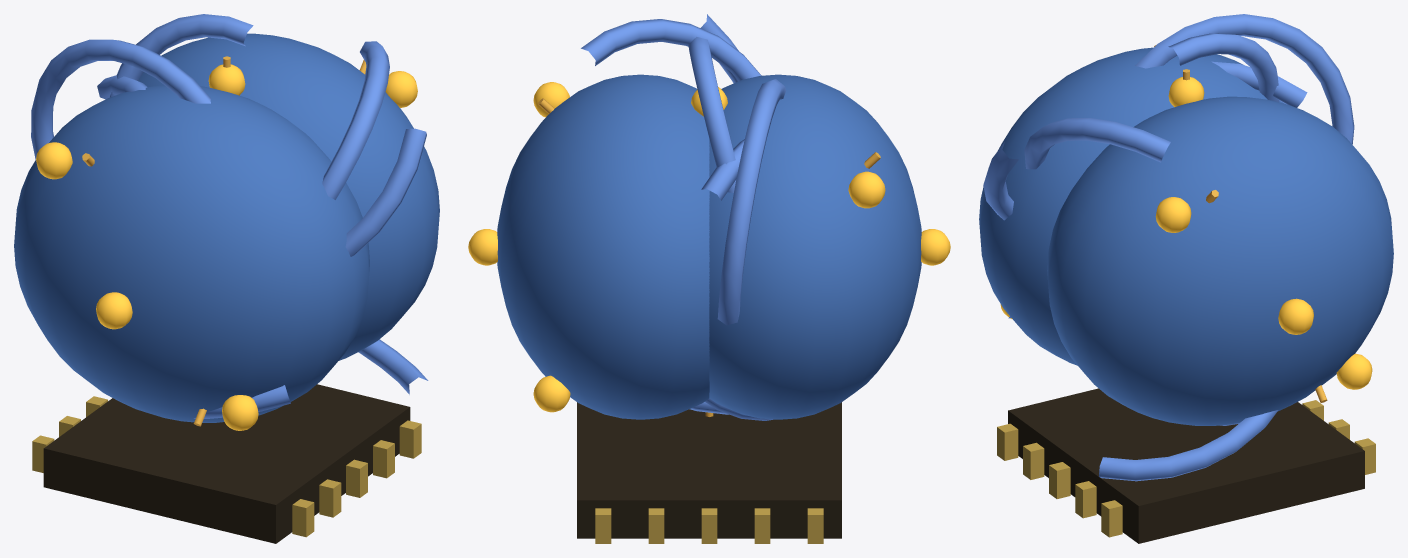
File: ai_brain.glb
3 renders of one model, left to right at view 1: azimuth 30°, elevation 25°; view 2: azimuth 150°, elevation 25°; view 3: azimuth 270°, elevation 25°, orthographic. The views are drawn at different scales.
Size of the model in its own units: 0.8092 by 0.9149 by 0.794.
